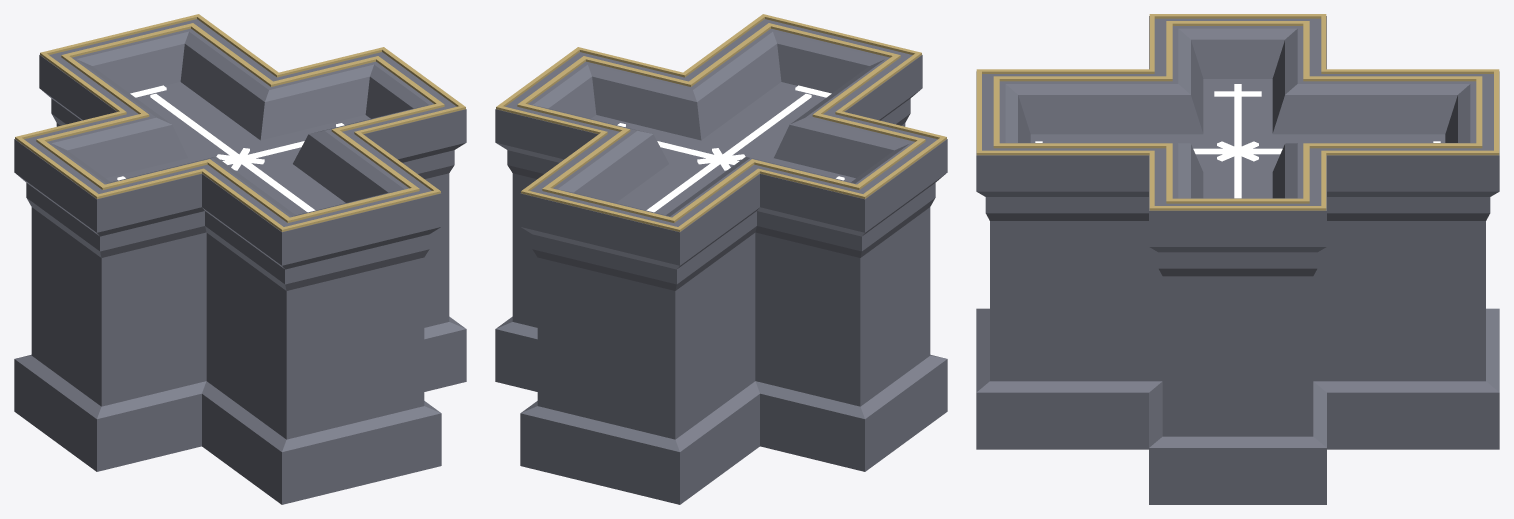
The model's file is RelicSocketHilt.fbx.
3 renders of one model, left to right at view 1: azimuth 30°, elevation 25°; view 2: azimuth 150°, elevation 25°; view 3: azimuth 270°, elevation 25°, orthographic. The views are drawn at different scales.
Parts seen in each view (by area): view 1: RelicSocketHilt, Rune; view 2: RelicSocketHilt, Rune; view 3: RelicSocketHilt, Rune.
Part boxes in pixels (x1,y1,x2,y2): RelicSocketHilt: (14, 14, 466, 504); Rune: (117, 85, 344, 212); RelicSocketHilt: (495, 14, 947, 504); Rune: (617, 85, 844, 212); RelicSocketHilt: (976, 14, 1499, 504); Rune: (1035, 84, 1440, 198).
Size of the model in its own units: 0.44 by 0.3125 by 0.5.
